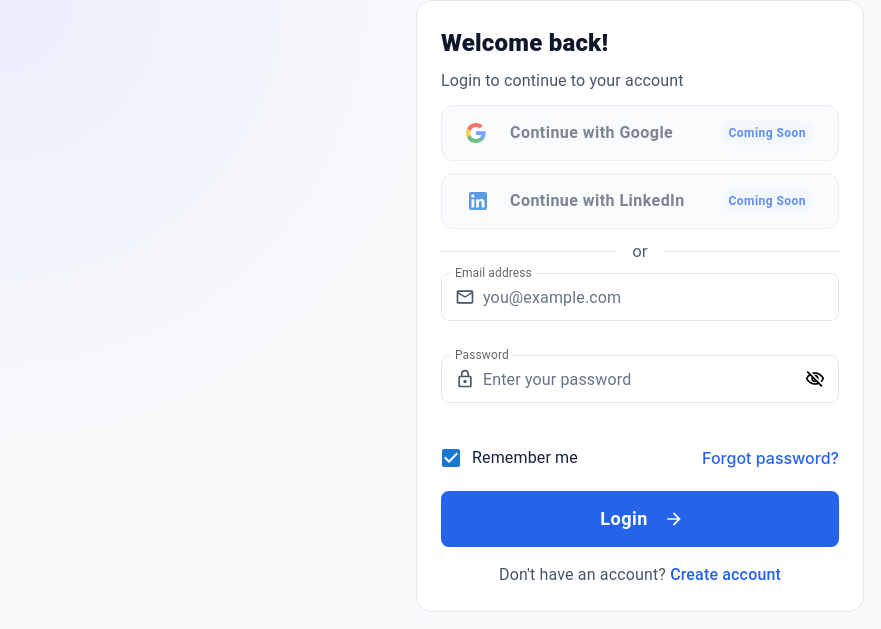
AuthForm › shows validation errors from the active yup schema
The width and height of the screenshot is (881, 629).
Click the button "Login": (640, 519) [441,491,839,547]
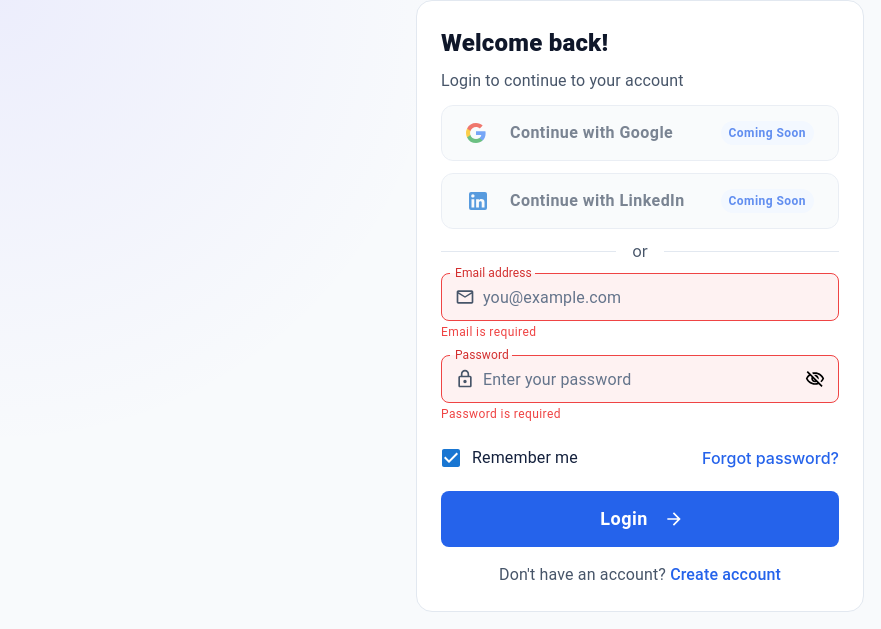
Check: the text "Email is required" is shown, box [441,325,536,339]
Check: the text "Password is required" is shown, box [441,407,561,421]
